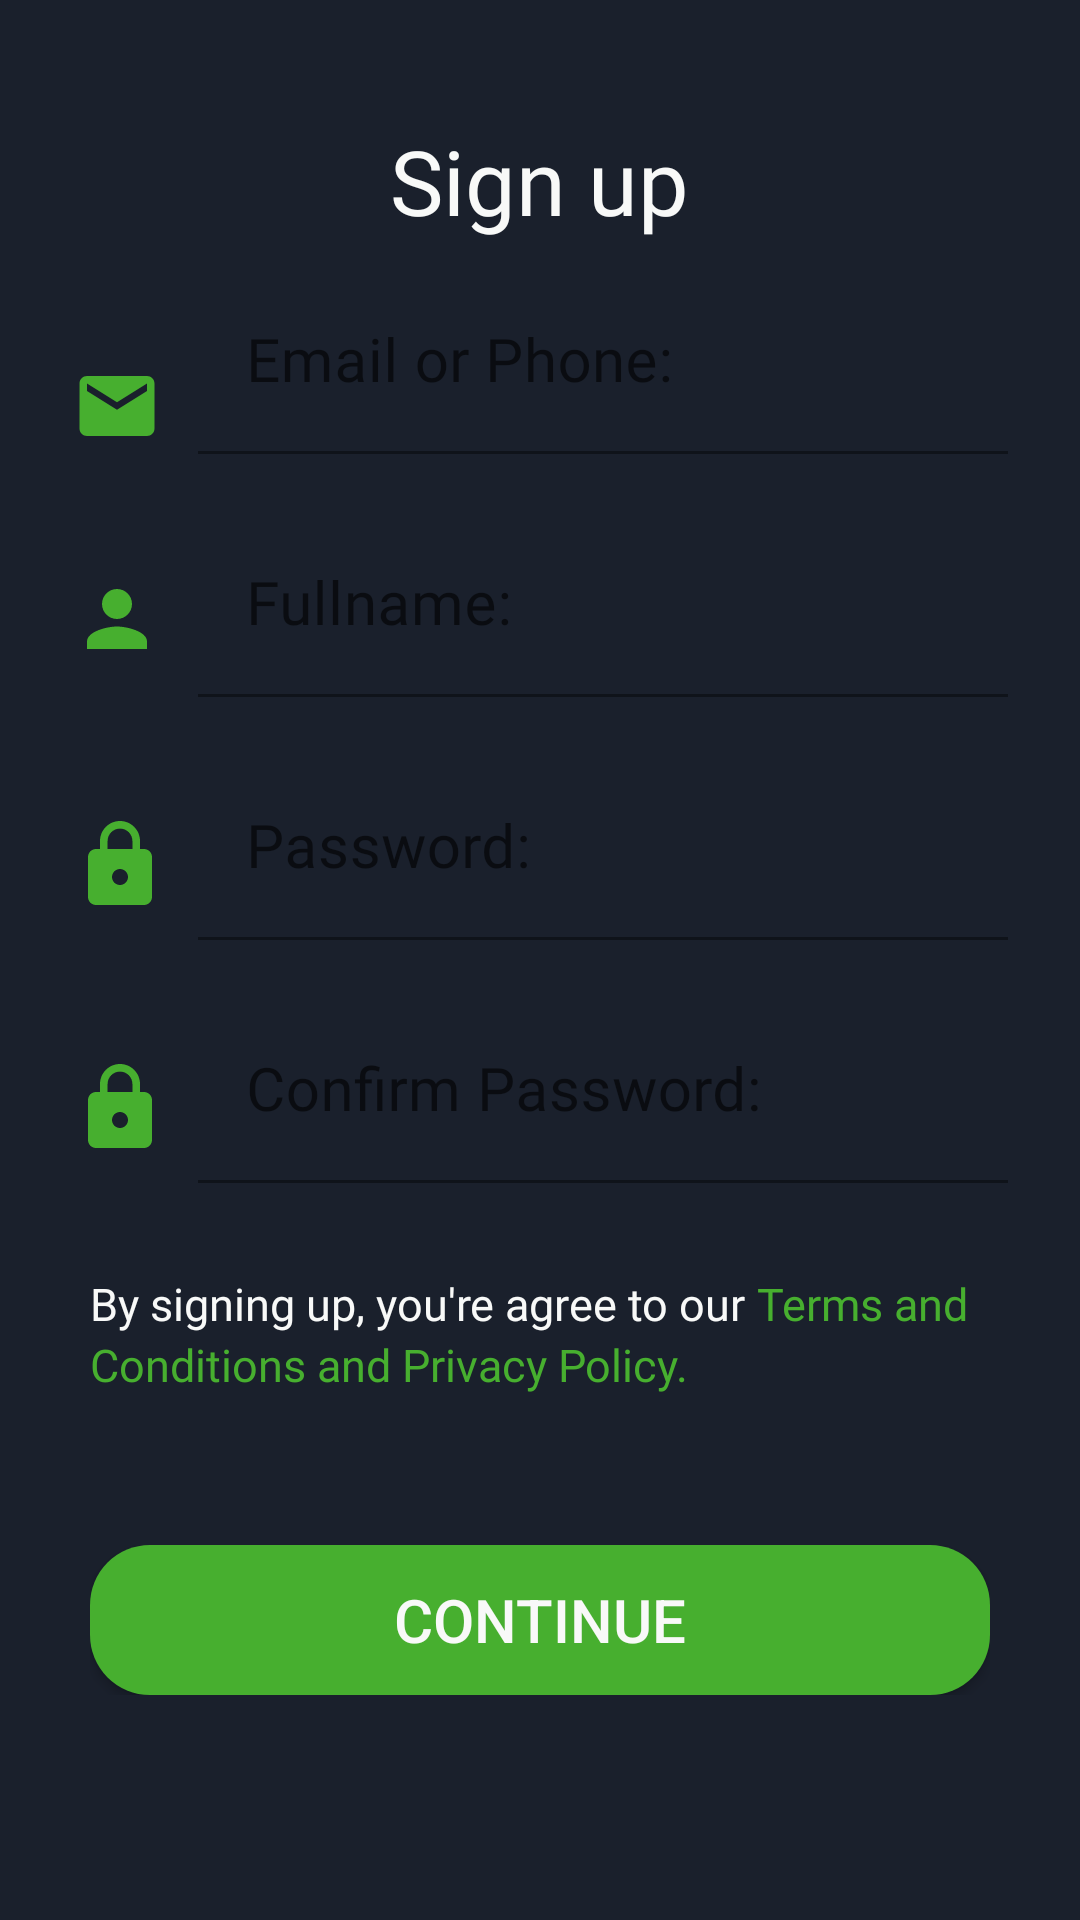

Icons on this 1080x1920 Android screen, each with its box as (x1,y1,x2,y2):
lock: (88,821,152,905), (88,1064,152,1148)
person: (87,589,147,649)
